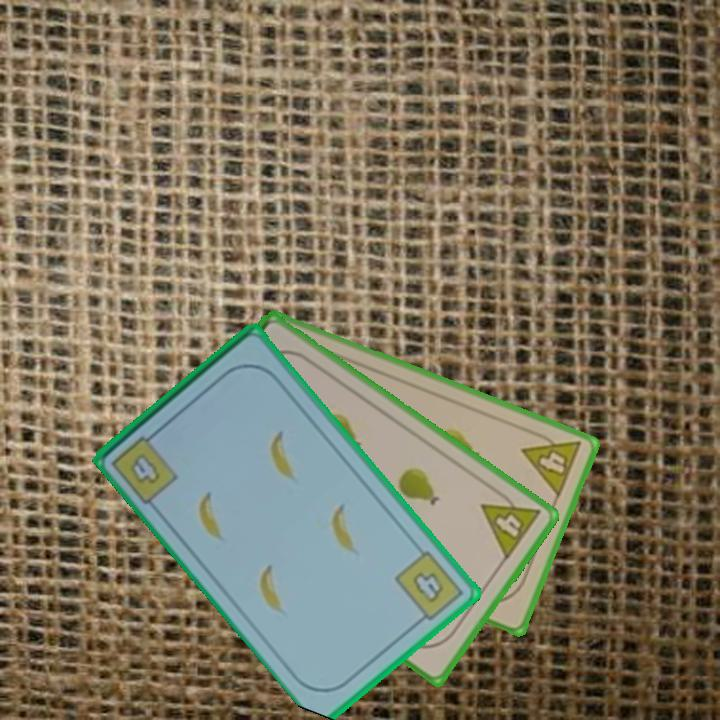4b: (391, 546, 467, 628), (108, 425, 181, 507)
4p: (477, 483, 544, 563), (518, 425, 585, 501)
